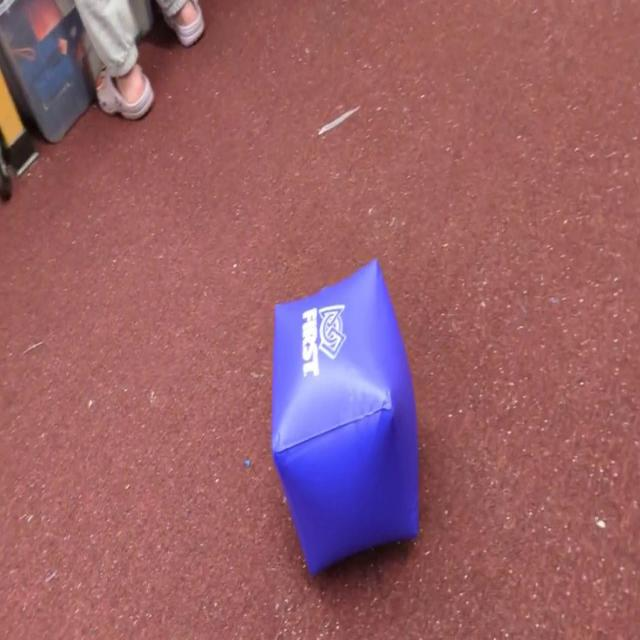frc_cube: (268, 256, 421, 583)
